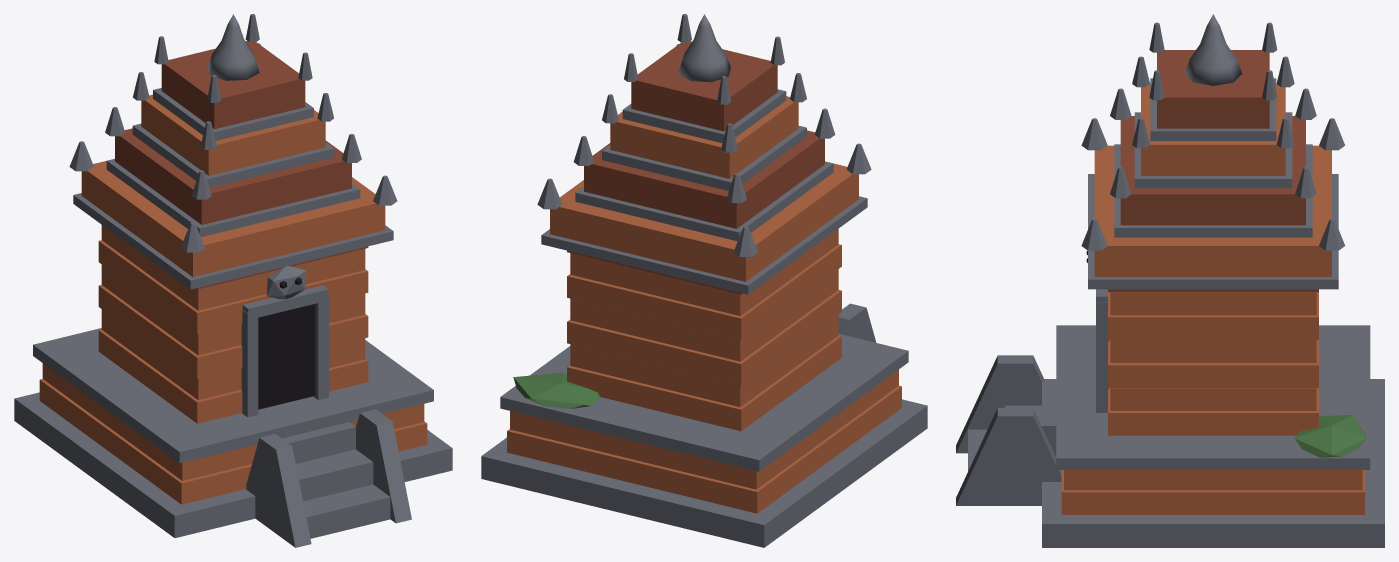
Rendered from candi_kecil.glb.
3 views of the same model, side by side, from view 1: azimuth 30°, elevation 25°; view 2: azimuth 150°, elevation 25°; view 3: azimuth 270°, elevation 25° (orthographic). The views are drawn at different scales.
Parts seen in each view (by area): view 1: candi_kecil_mesh; view 2: candi_kecil_mesh; view 3: candi_kecil_mesh.
Part boxes in pixels (left/top/right/bottom): candi_kecil_mesh: left=14, top=14, right=452, bottom=547; candi_kecil_mesh: left=481, top=14, right=927, bottom=547; candi_kecil_mesh: left=956, top=14, right=1384, bottom=547.
Bounding box in the file's own units: 2.6 × 3.86 × 3.25.
